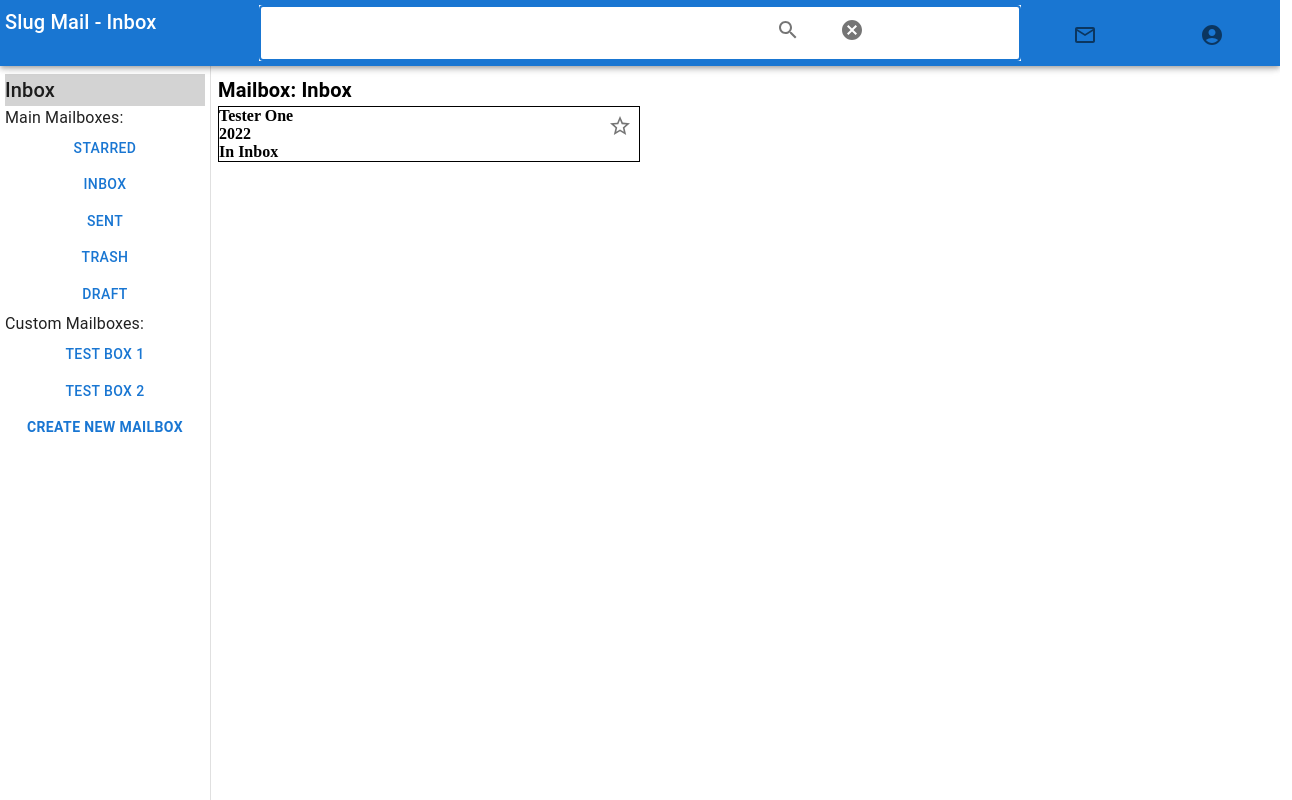
Search for Gary
Expected: the text "Mailbox: Inbox" is shown, [218, 78, 352, 102]
Type "Gary" into the field with test id "searchBarText" at (640, 33), box [259, 5, 1021, 61]
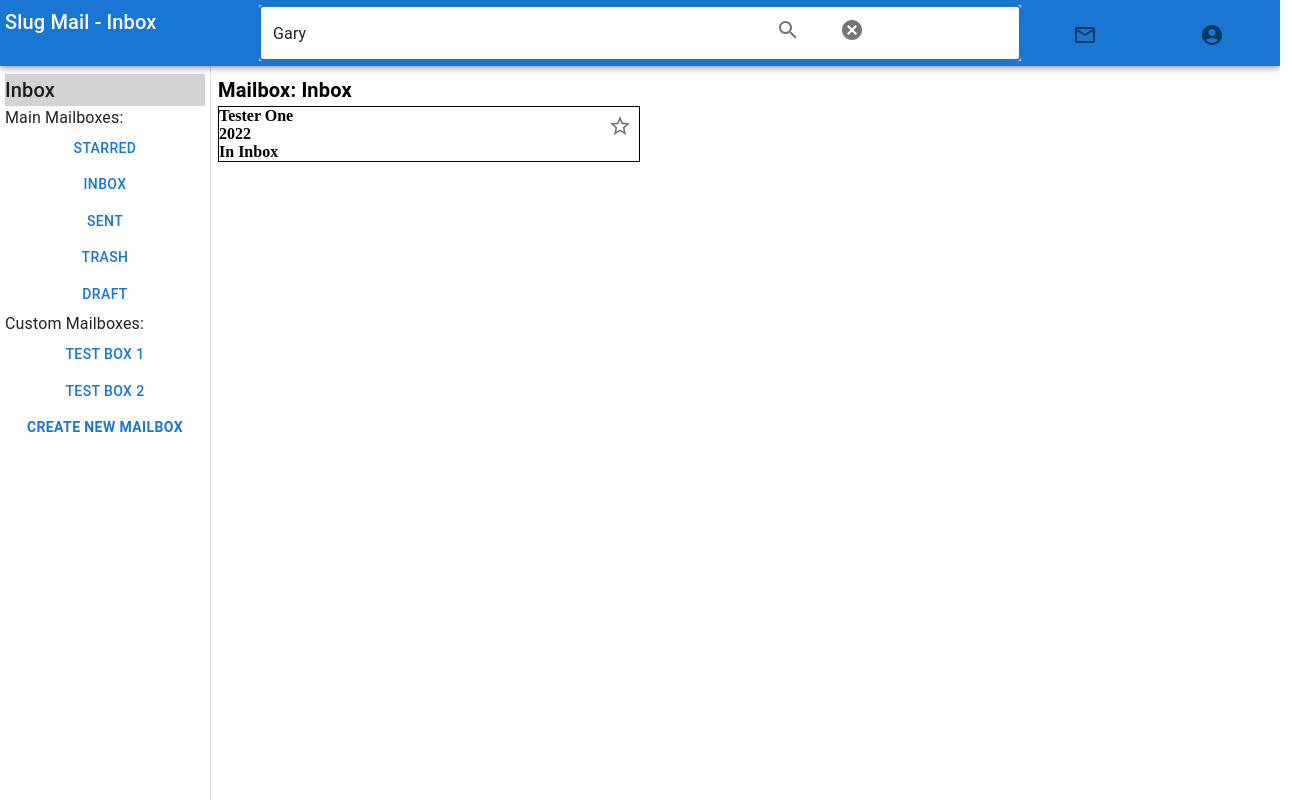
Click the button named "submitSearch" at (788, 30), box [768, 10, 808, 50]
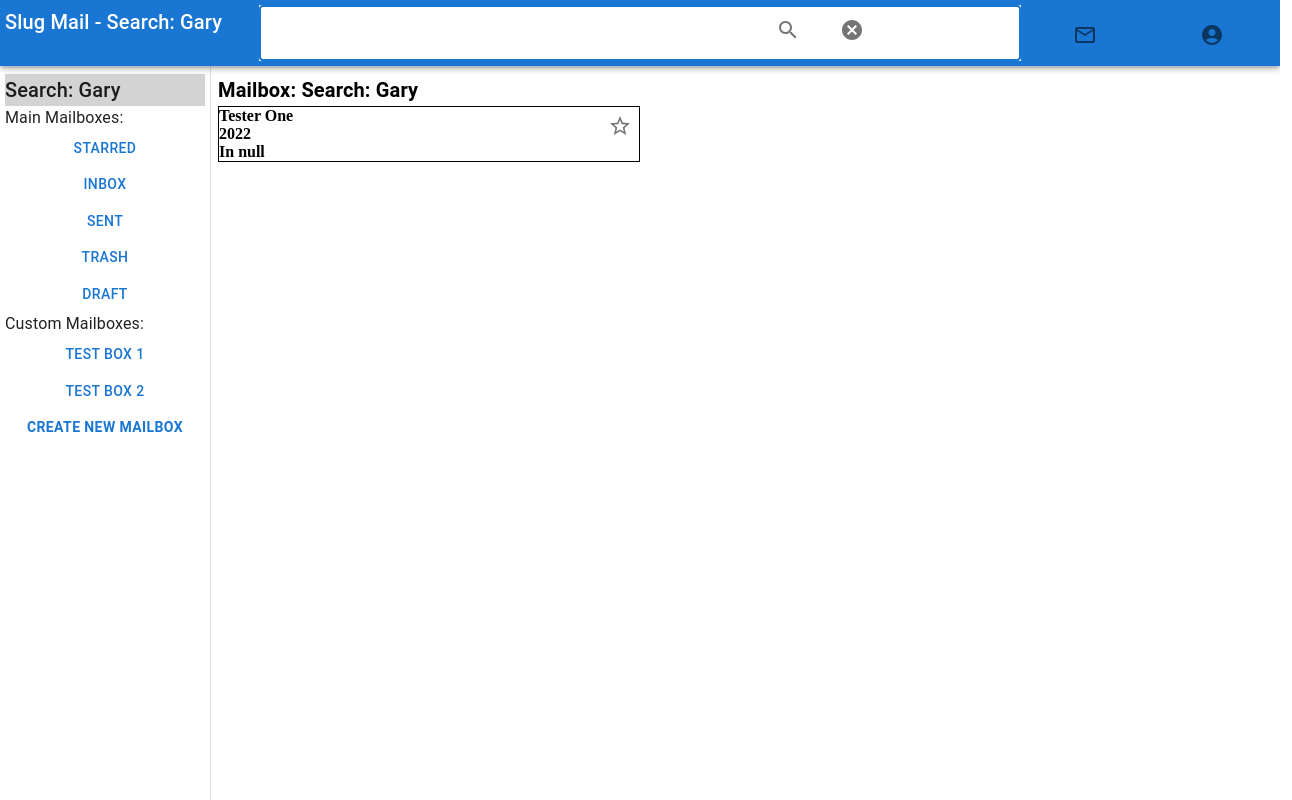
Expected: the text "Mailbox: Search: Gary" is shown, [218, 78, 418, 102]
